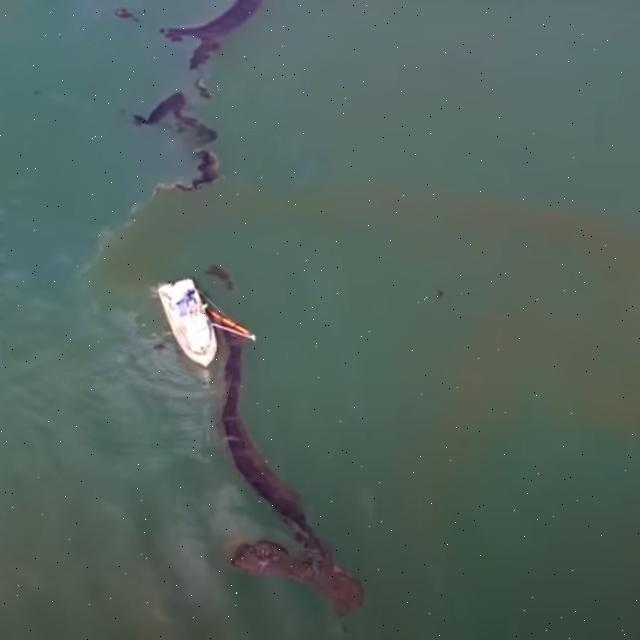oil spill: (202, 293, 365, 616), (133, 91, 219, 194), (161, 0, 262, 68), (196, 77, 209, 98)
